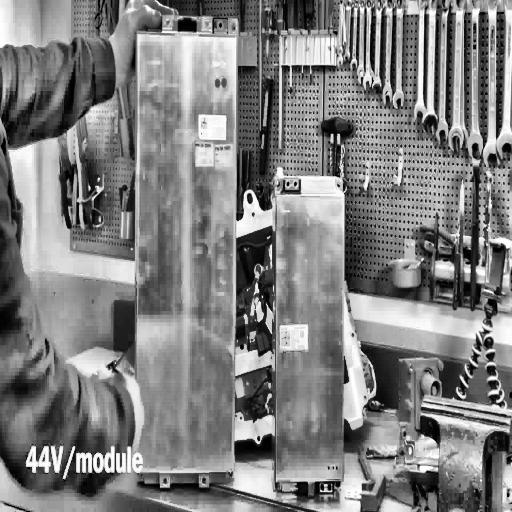battery_module: (136, 30, 235, 473)
